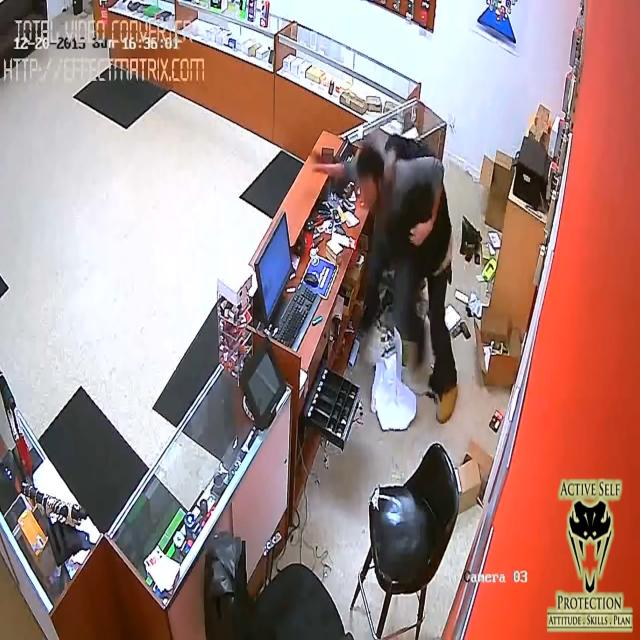fight: (314, 135, 465, 426)
